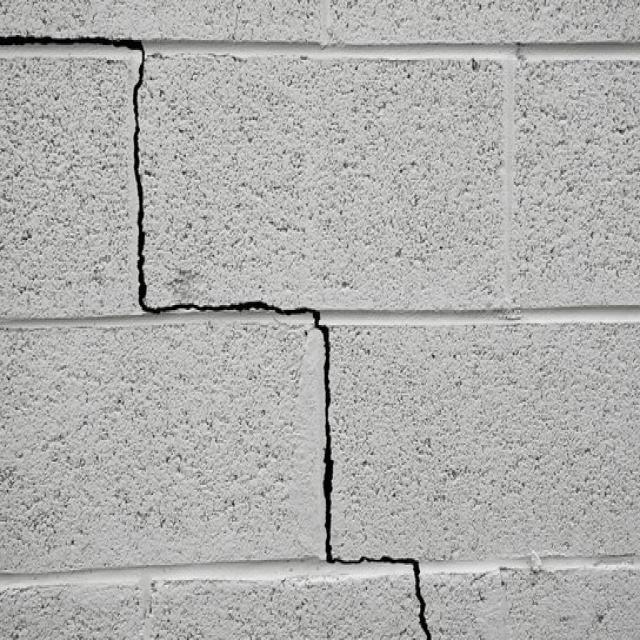Longitudinal: (113, 63, 156, 305), (312, 338, 344, 556), (394, 551, 442, 640)
Transverse: (139, 295, 330, 336), (0, 27, 148, 58), (336, 547, 416, 578)
